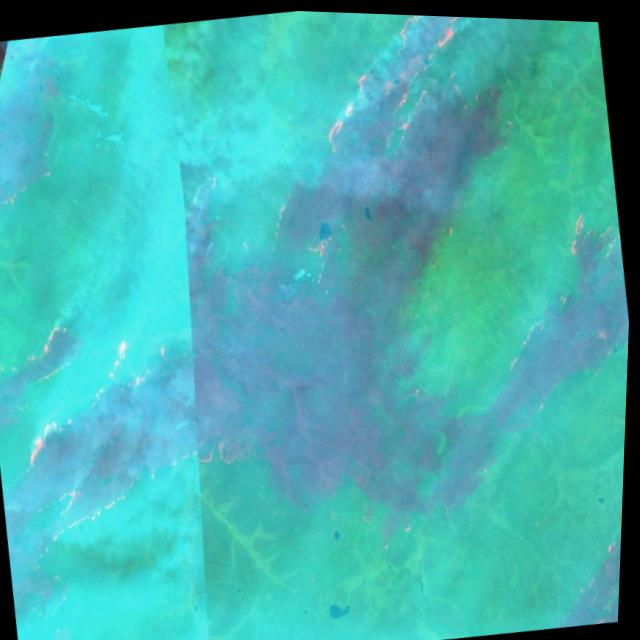fire: (0, 298, 188, 555), (495, 189, 635, 445), (303, 9, 519, 172), (181, 144, 353, 316), (569, 533, 625, 623)
